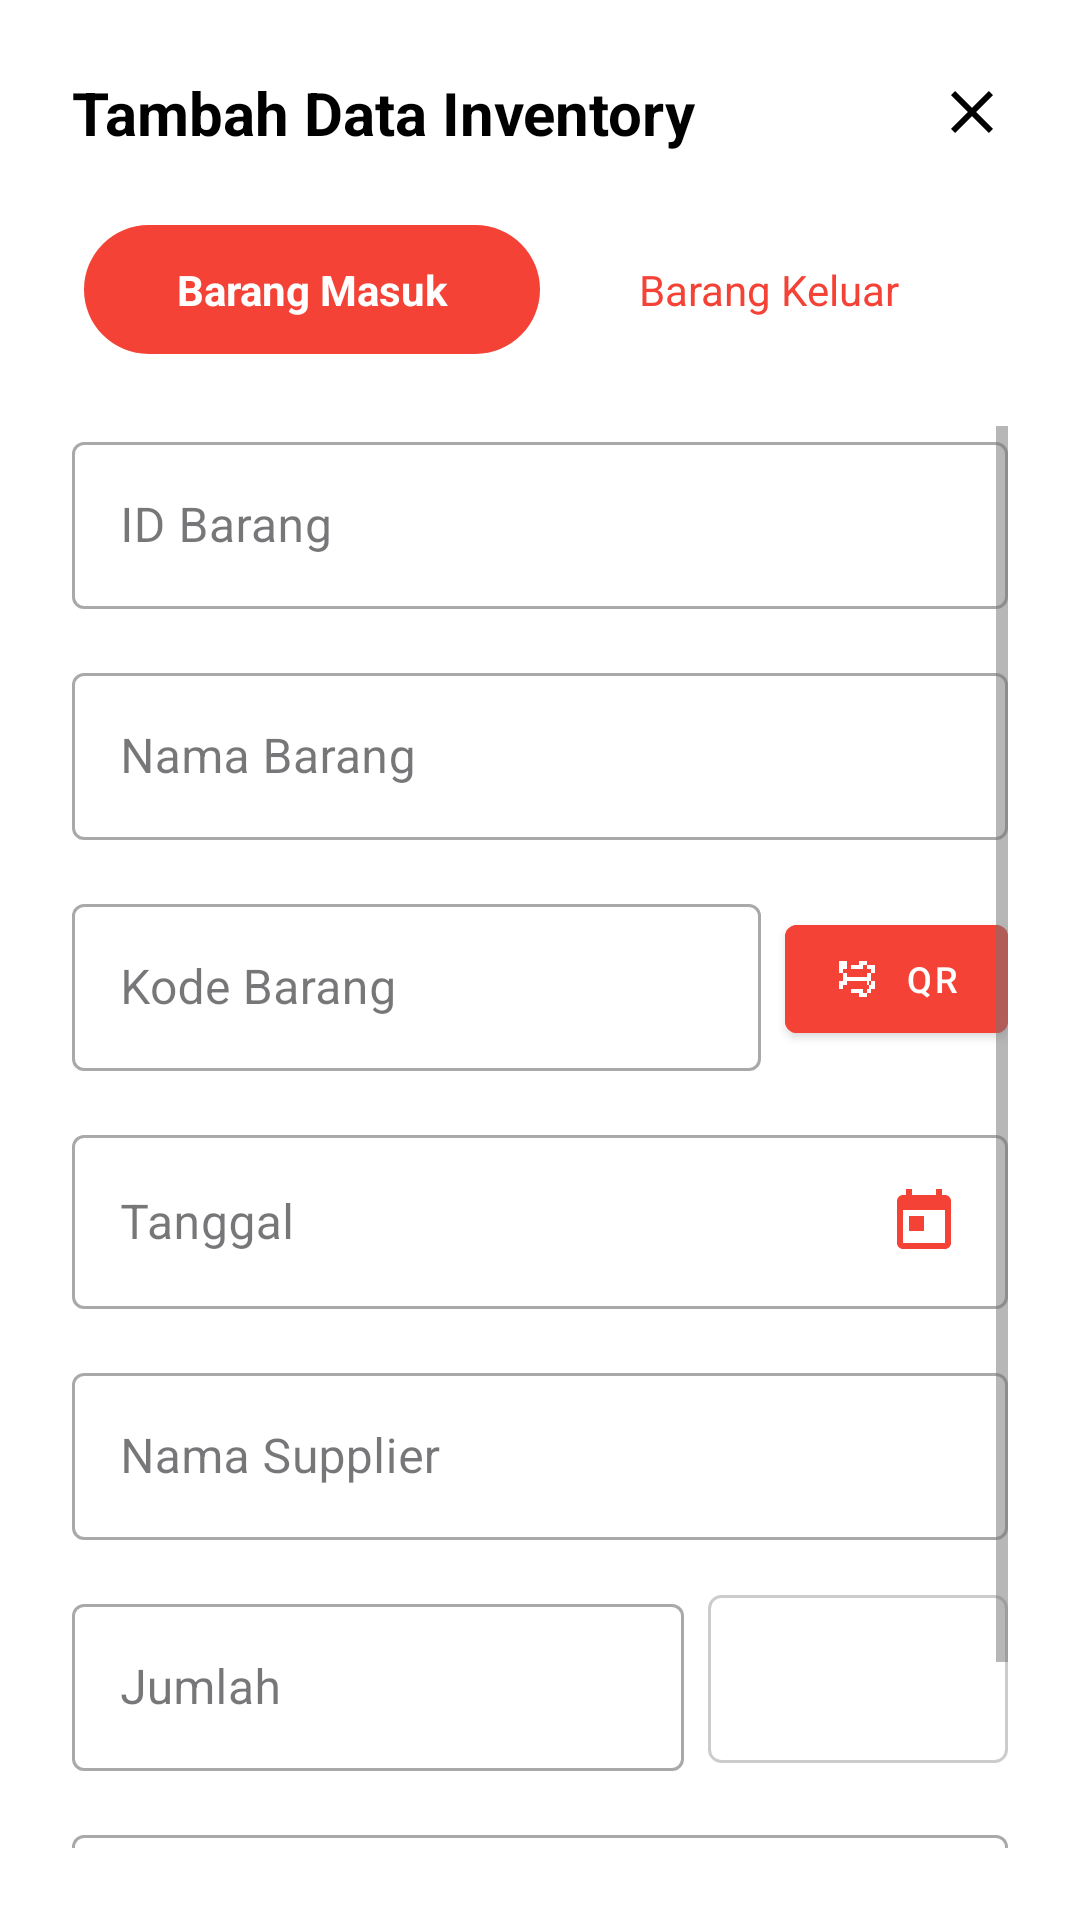

Point at icon controls on the screen. Image size 1080 x 1920, points as [x,y].
close: [972,112]
